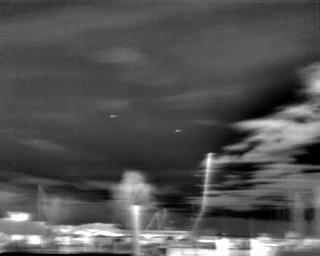BIRD: (108, 112, 119, 122)
